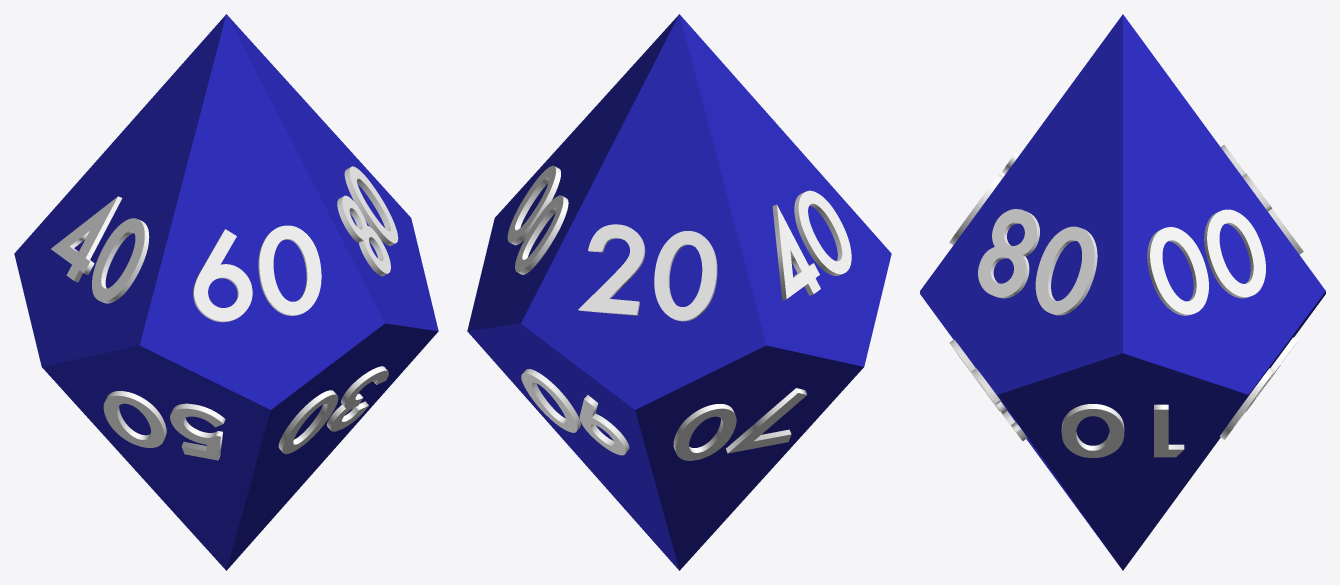
Rendered from d10_tens.glb.
3 renders of one model, left to right at view 1: azimuth 30°, elevation 25°; view 2: azimuth 150°, elevation 25°; view 3: azimuth 270°, elevation 25°, orthographic.
Parts seen in each view (by area): view 1: D10_Tens; view 2: D10_Tens; view 3: D10_Tens.
Part boxes in pixels (<box>): D10_Tens: <box>14,14,438,570</box>; D10_Tens: <box>467,14,891,570</box>; D10_Tens: <box>920,14,1325,570</box>.
Size of the model in its own units: 2 by 2.88 by 1.9.
